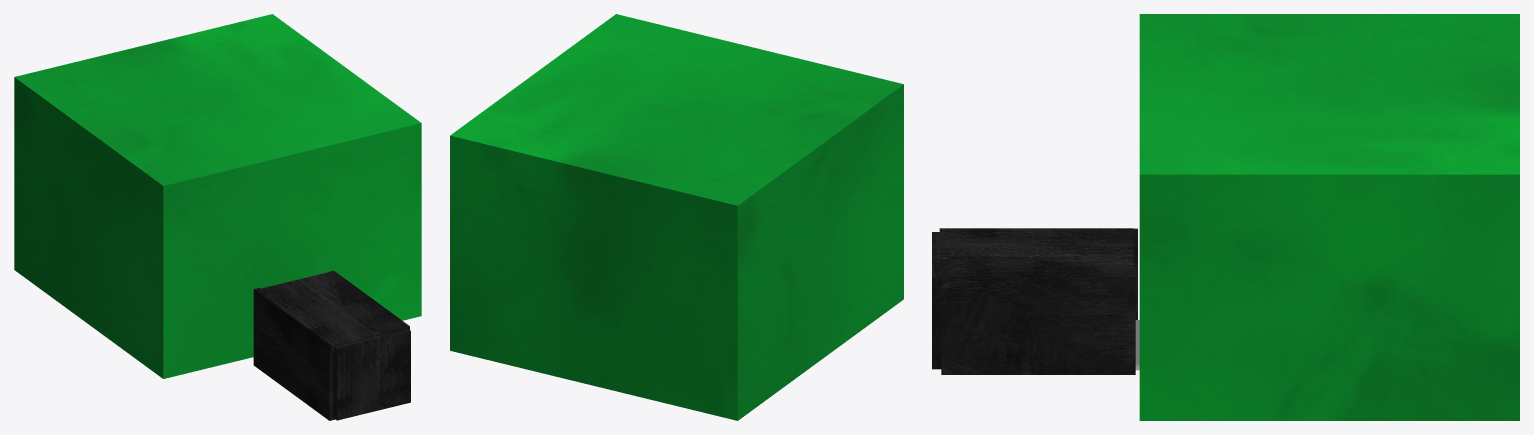
Rendered from PreStageArea.fbx.
3 renders of one model, left to right at view 1: azimuth 30°, elevation 25°; view 2: azimuth 150°, elevation 25°; view 3: azimuth 270°, elevation 25°, orthographic. The views are drawn at different scales.
Visible parts, largest first — view 1: pCube1, pasted__pasted__pCube2 (×2), pasted__pCube2; view 2: pCube1; view 3: pCube1, pasted__pasted__pasted__pCube2, pasted__pCube2, pasted__pasted__pCube2.
Boxes of the visible parts, left/top/right/bottom form: pCube1: left=14, top=14, right=421, bottom=378; pasted__pasted__pCube2 (×2): left=253, top=287, right=410, bottom=420; pasted__pCube2: left=256, top=271, right=409, bottom=351; pCube1: left=450, top=14, right=903, bottom=420; pCube1: left=1139, top=14, right=1519, bottom=420; pasted__pasted__pasted__pCube2: left=941, top=274, right=1135, bottom=374; pasted__pCube2: left=939, top=228, right=1133, bottom=285; pasted__pasted__pCube2: left=932, top=232, right=941, bottom=369.
Bounding box in the file's own units: 35 × 25.98 × 54.09.
